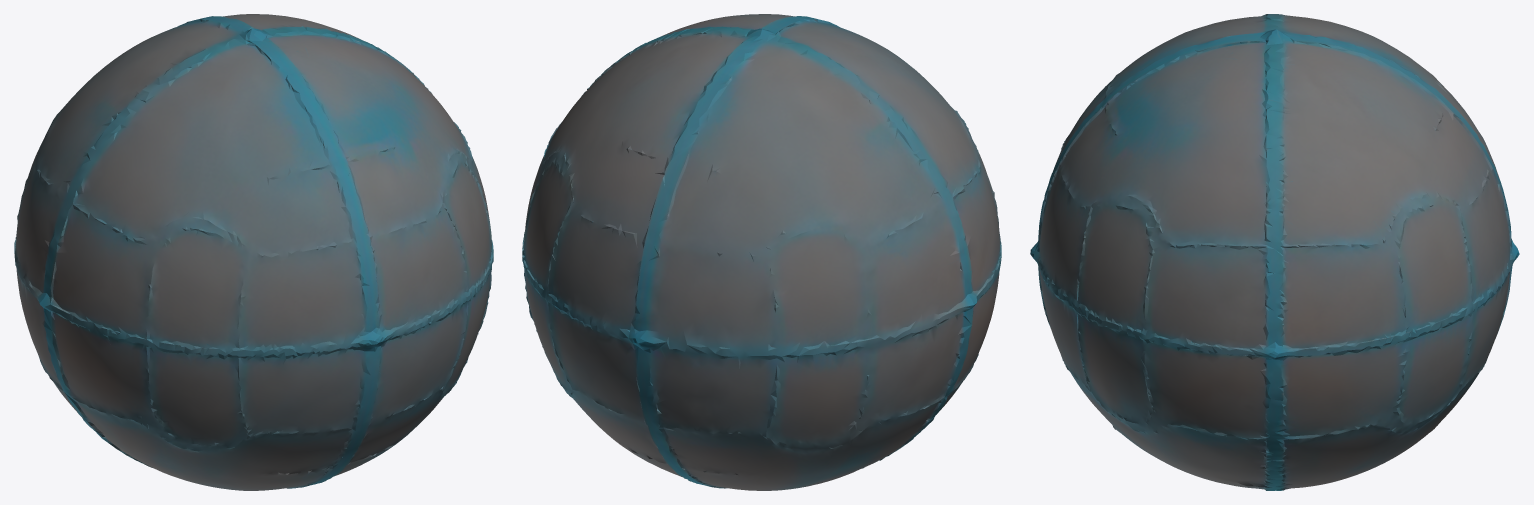
The model's file is nova_shield.glb.
The picture shows the model from 3 angles, left to right: view 1: azimuth 30°, elevation 25°; view 2: azimuth 150°, elevation 25°; view 3: azimuth 270°, elevation 25°; orthographic projection.
Parts seen in each view (by area): view 1: nova_shield; view 2: nova_shield; view 3: nova_shield.
Part boxes in pixels (x1,y1,x2,y2): nova_shield: [14, 14, 493, 490]; nova_shield: [522, 14, 1001, 490]; nova_shield: [1030, 14, 1519, 490].
Size of the model in its own units: 1.89 by 1.9 by 1.89.
Materials: 1 (1 with a texture image).
